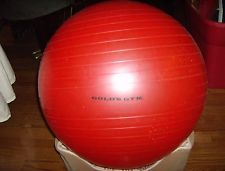red ball: (38, 1, 209, 169)
